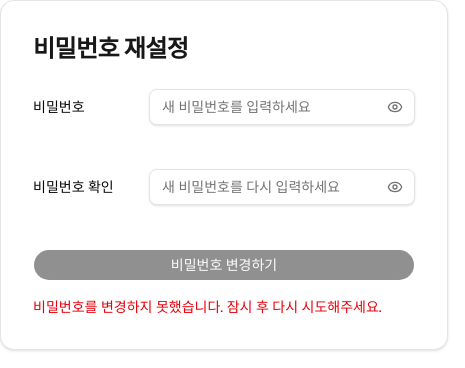
Test: reset-password-form › SYSTEM root error는 다음 유효한 submit 시작 시 제거한다
Expected: the text "비밀번호를 변경하지 못했습니다. 잠시 후 다시 시도해주세요." is shown, [33,297,415,317]
Type "valid-password" into the password field labelled "비밀번호".
click(282, 107); type("valid-password")  # box [149,89,415,125]
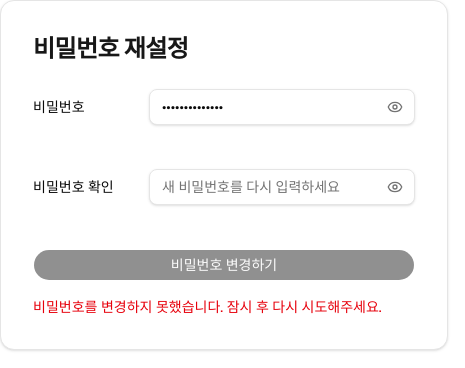
Type "valid-password" into the password field labelled "비밀번호 확인".
click(282, 187); type("valid-password")  # box [149,169,415,205]
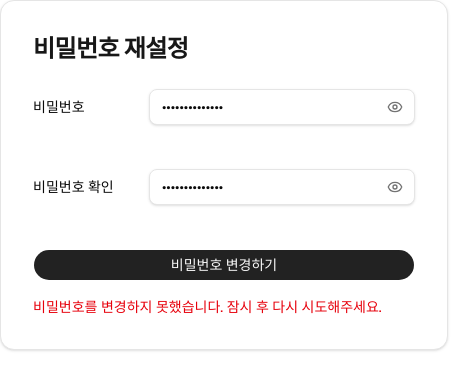
Expected: the text "비밀번호를 변경하지 못했습니다. 잠시 후 다시 시도해주세요." is shown, [33,297,415,317]
Expected: the button "비밀번호 변경하기" is enabled, [33,249,415,281]
Submit the form "비밀번호 변경하기"
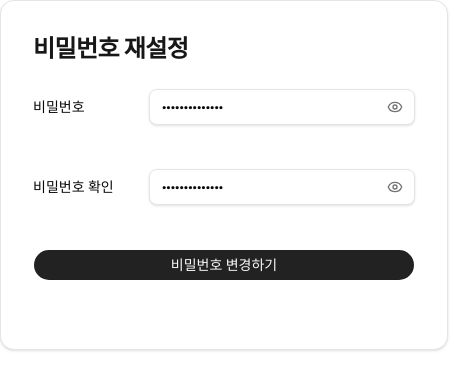
Expected: the text "비밀번호를 변경하지 못했습니다. 잠시 후 다시 시도해주세요." is gone
